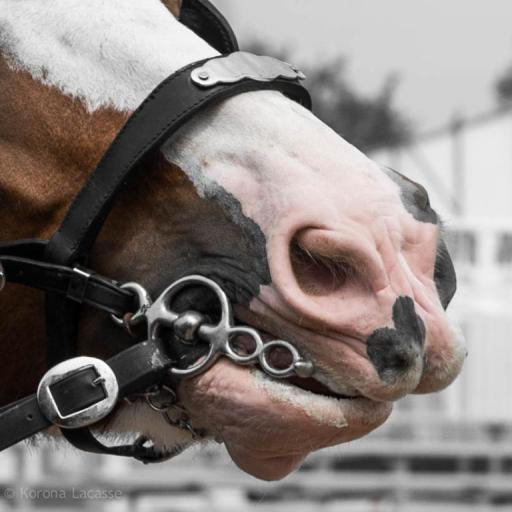horse: (0, 0, 468, 482)
